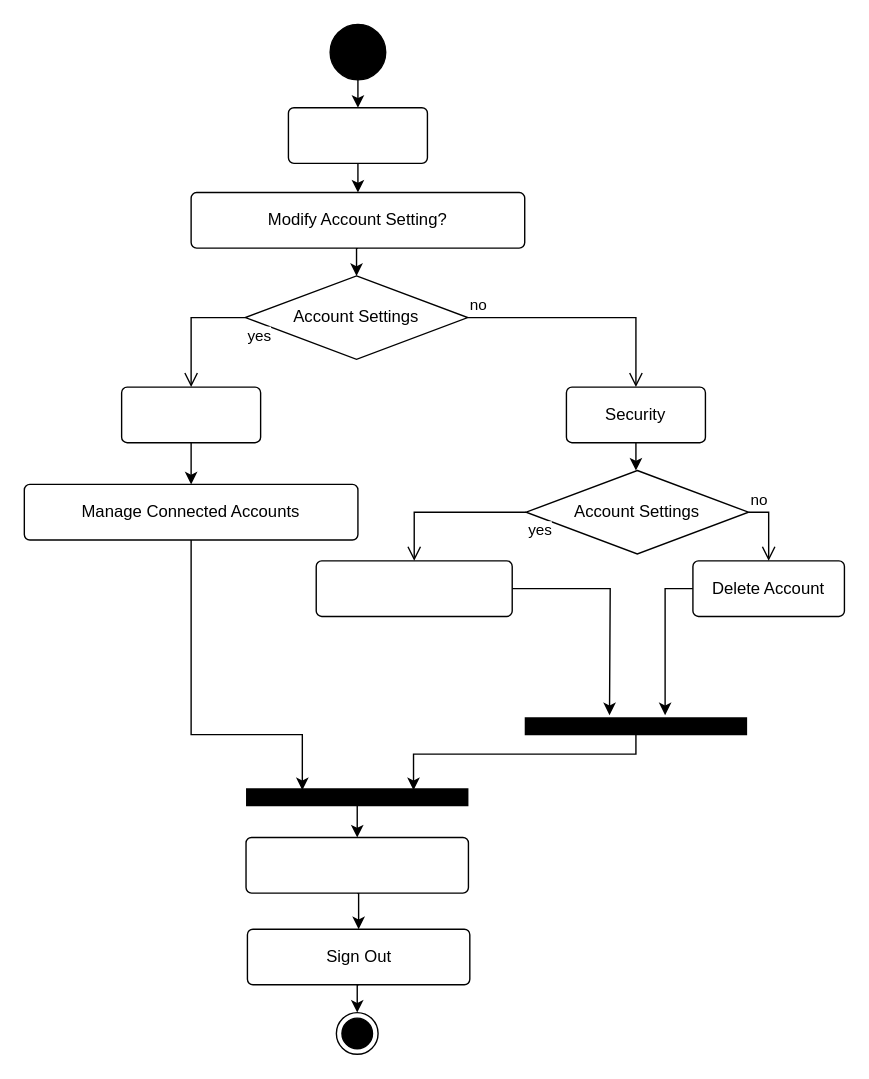
Image size: 869x1079. Some labels were removed from this diagram. The centre of each missing label's shape, as x and y in pixels:
Change Theme: point 356,864
Manage Active Devices: point 413,587
Manage Profile: point 357,134
Update Profile: point 190,414
